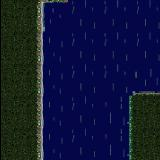Interaction: (27, 0, 54, 160), (54, 0, 83, 10)
Slow: (43, 0, 160, 91), (43, 91, 127, 160)
